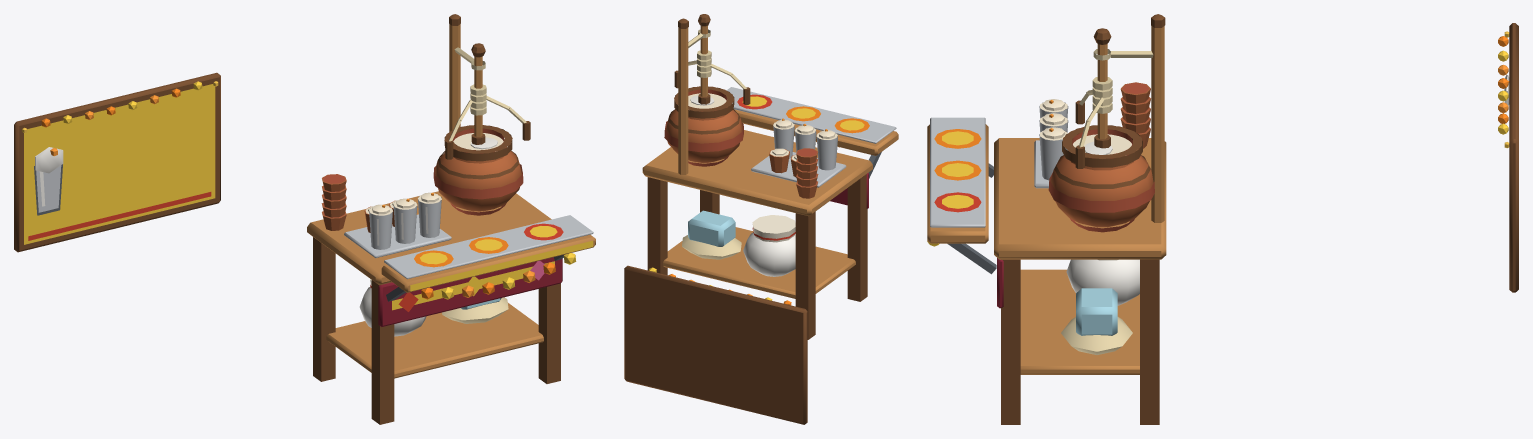
File: lassi_station.glb
3 views of the same model, side by side, from view 1: azimuth 30°, elevation 25°; view 2: azimuth 150°, elevation 25°; view 3: azimuth 270°, elevation 25° (orthographic). The views are drawn at different scales.
Visible parts, largest first — view 1: base, madhani; view 2: base, madhani; view 3: base, madhani.
Boxes of the visible parts, x1,y1,x2,y2 form: base: (14, 14, 595, 424); madhani: (470, 43, 486, 144); base: (624, 18, 898, 424); madhani: (697, 14, 711, 104); base: (927, 14, 1518, 424); madhani: (1092, 28, 1112, 148).
Bounding box in the file's own units: 1.64 × 1.54 × 2.13.
Materials: 1 (1 with a texture image).
